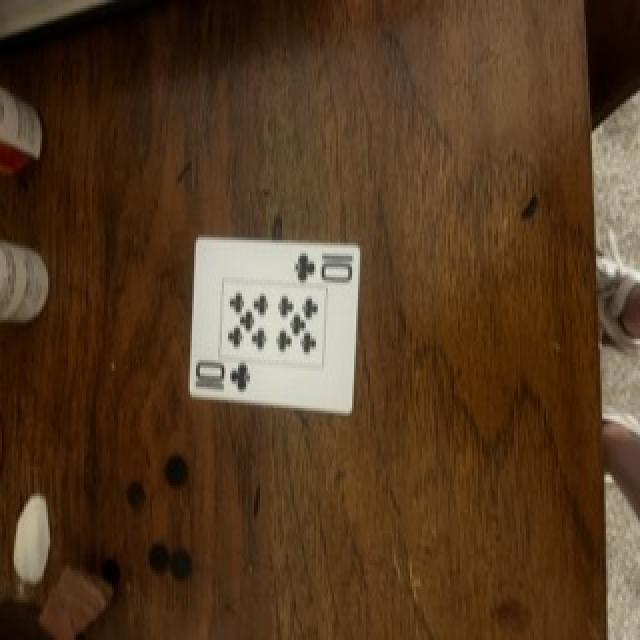10 of clubs: (192, 237, 360, 413)
